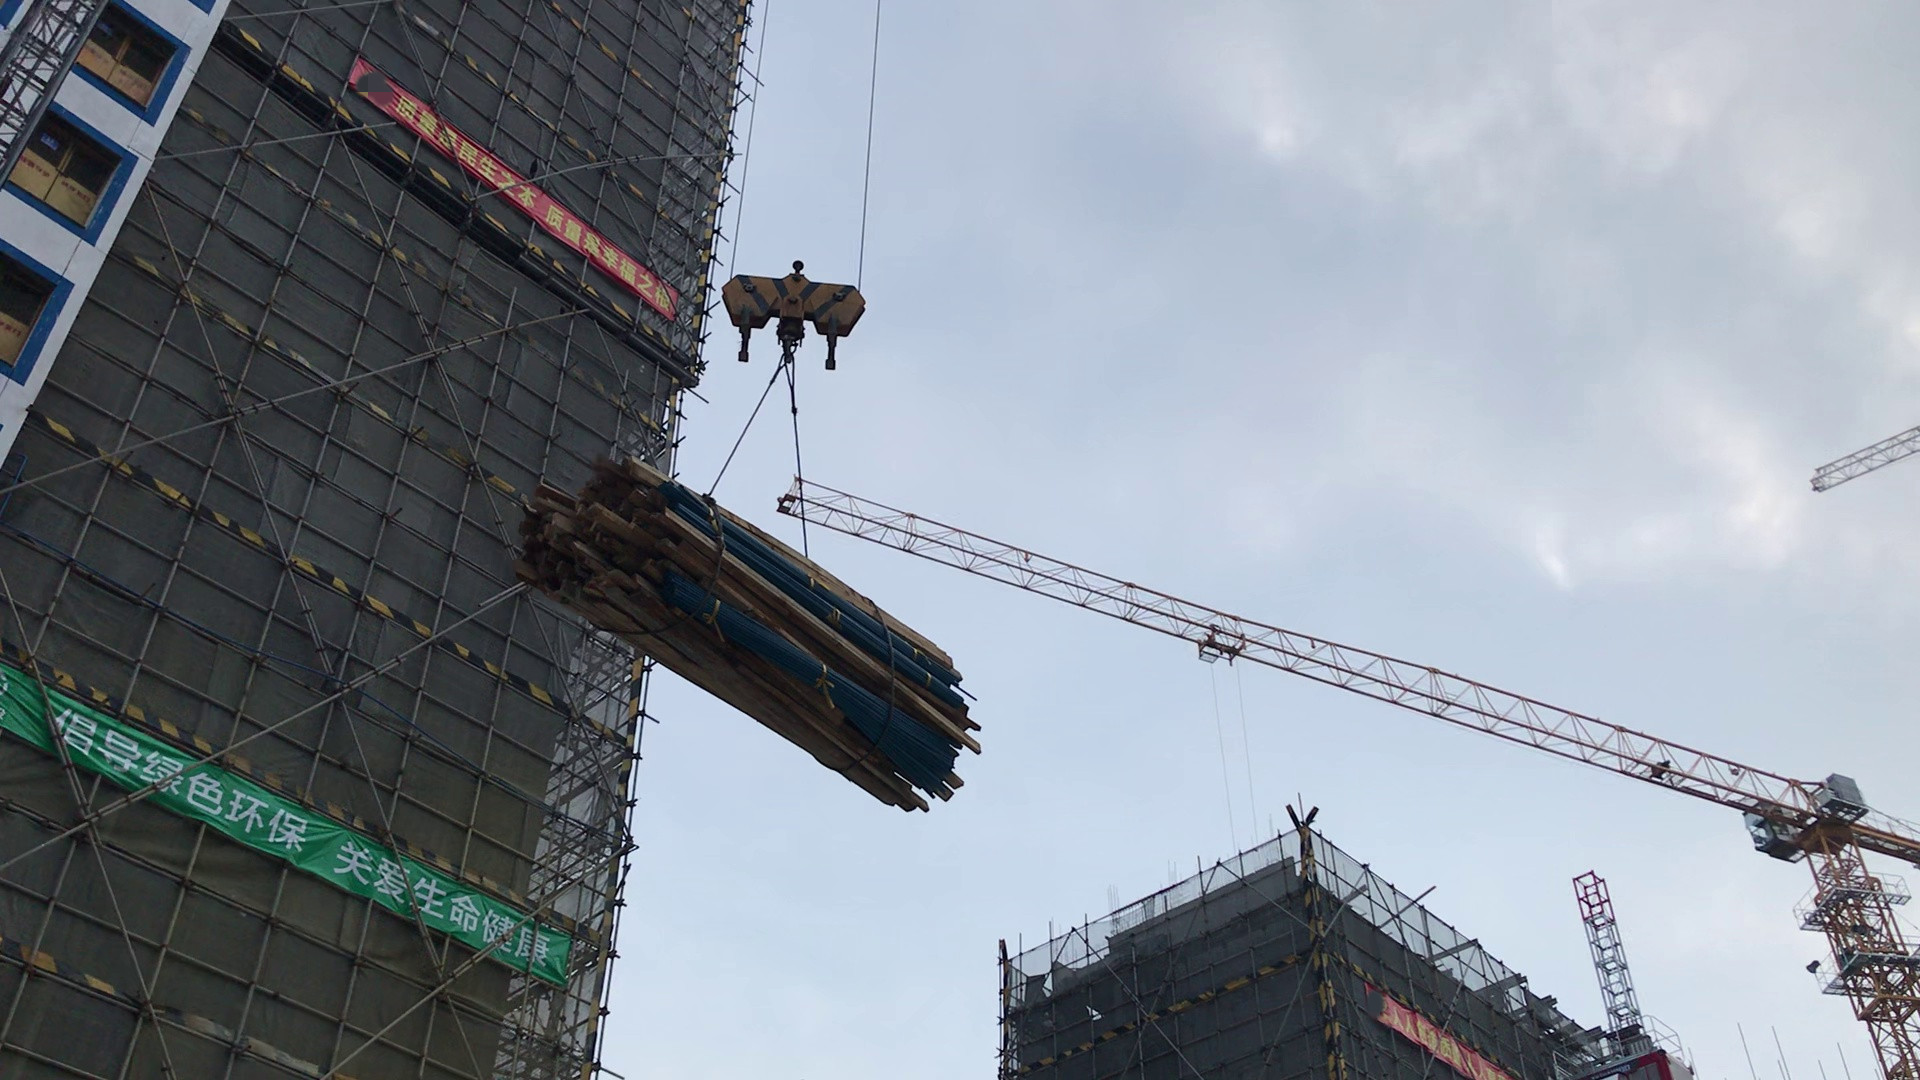hook: (702, 245, 907, 422)
slogan: (1, 638, 588, 1005), (342, 51, 700, 327), (1350, 975, 1516, 1080)
wood: (506, 450, 996, 828)
